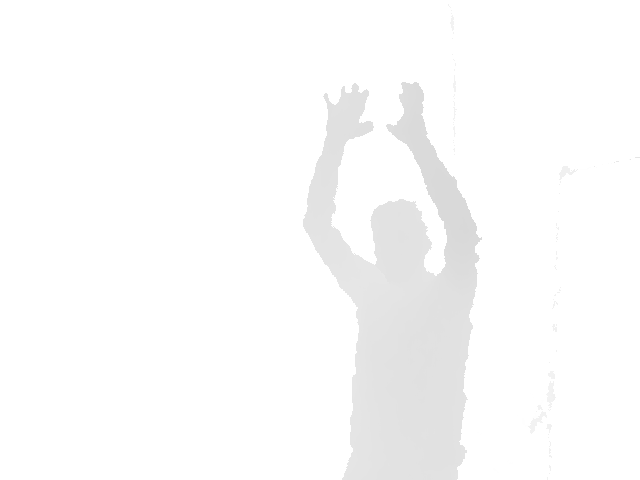hand: (322, 82, 375, 141), (385, 82, 433, 145)
head: (370, 198, 435, 269)
person: (301, 82, 483, 480)
